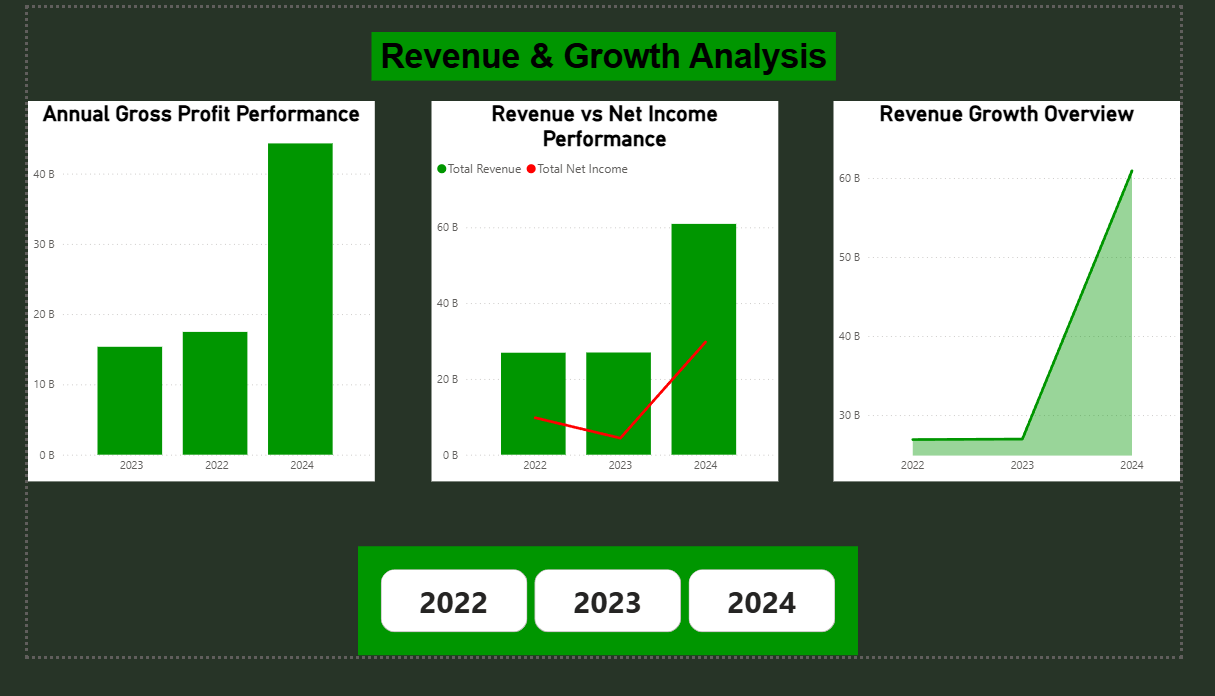

Layout of this report page (visuals, bound fields, positions):
{"tool":"powerbi","page":{"name":"NVIDIA Revenue & Growth Analysis","canvas":[1280,720],"ordinal":3},"visuals":[{"type":"textbox","box":[382,27.1,515.9,54.1],"z":0},{"type":"lineClusteredColumnComboChart","title":"Revenue vs Net Income Performance","fields":{"Category":["Dim_Year.Year"],"Y":["KPI_Table.Total Revenue"],"Y2":["KPI_Table.Total Net Income"]},"box":[448.2,103.8,385.1,422.7],"z":2},{"type":"areaChart","title":"Revenue Growth Overview","fields":{"Category":["Dim_Year.Year"],"Y":["KPI_Table.Total Revenue"]},"box":[894.9,103.8,385.1,422.7],"z":3},{"type":"clusteredColumnChart","title":"Annual Gross Profit Performance","fields":{"Category":["Dim_Year.Year"],"Y":["KPI_Table.Total Gross Profit"]},"box":[0,103.8,385.1,422.7],"z":4},{"type":"advancedSlicerVisual","fields":{"Values":["Dim_Year.Year"]},"box":[366,598.6,555.2,121],"z":5}]}

Visuals, with their boxes in screenshot pixels (x1, y1, x2, y2), scaled from the page's 1280x720 canvas onto the 1215x696 screenshot:
textbox: rect(363, 26, 852, 78)
"Revenue vs Net Income Performance" lineClusteredColumnComboChart: rect(425, 100, 791, 509)
"Revenue Growth Overview" areaChart: rect(849, 100, 1214, 509)
"Annual Gross Profit Performance" clusteredColumnChart: rect(0, 100, 366, 509)
advancedSlicerVisual - Dim_Year.Year: rect(347, 579, 874, 695)
